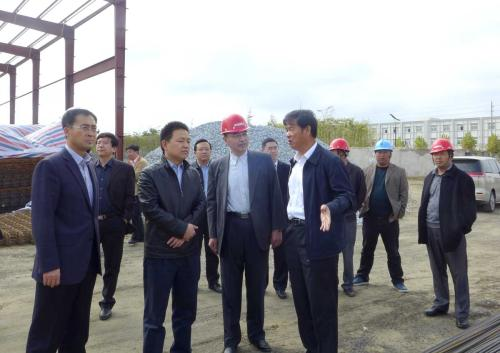boots: (251, 337, 272, 351), (424, 306, 447, 315), (352, 275, 369, 286), (98, 307, 112, 319), (456, 318, 470, 329), (392, 283, 409, 292), (209, 282, 222, 293), (275, 288, 287, 299), (343, 286, 356, 296), (223, 345, 237, 353)
hard-hat: (219, 113, 249, 134), (429, 138, 454, 153), (329, 138, 350, 152), (374, 139, 394, 150)
person: (205, 113, 288, 353), (24, 108, 102, 353), (282, 109, 355, 353), (136, 120, 207, 353), (417, 139, 477, 329), (352, 138, 409, 293), (92, 132, 136, 320), (327, 137, 367, 296), (190, 138, 222, 293), (261, 137, 291, 299), (126, 143, 149, 243)
